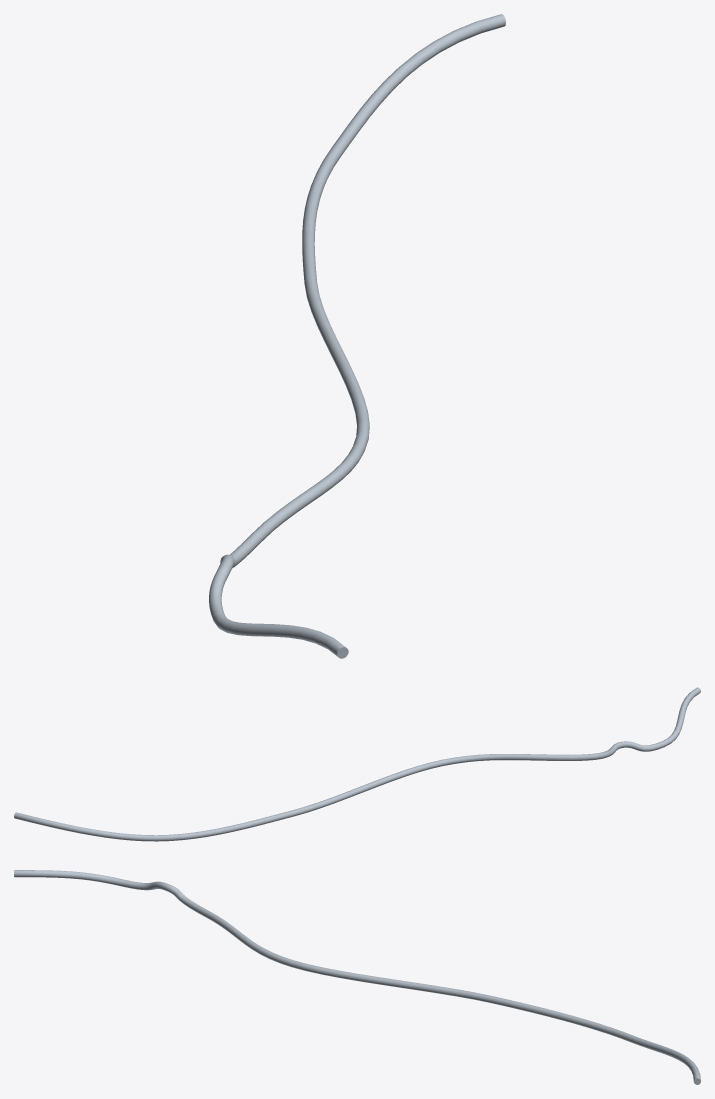
File: SM_Cable_2_Splines_5.fbx
3 views of the same model, one above another, from view 1: azimuth 30°, elevation 25°; view 2: azimuth 150°, elevation 25°; view 3: azimuth 270°, elevation 25° (orthographic). The views are drawn at different scales.
Visible parts, largest first — view 1: SM_Cable_2_Splines_5; view 2: SM_Cable_2_Splines_5; view 3: SM_Cable_2_Splines_5.
Boxes of the visible parts, x1,y1,x2,y2 form: SM_Cable_2_Splines_5: (209,14,505,658); SM_Cable_2_Splines_5: (14,687,700,841); SM_Cable_2_Splines_5: (14,870,700,1084).
Bounding box in the file's own units: 405 × 532 × 23.86.
